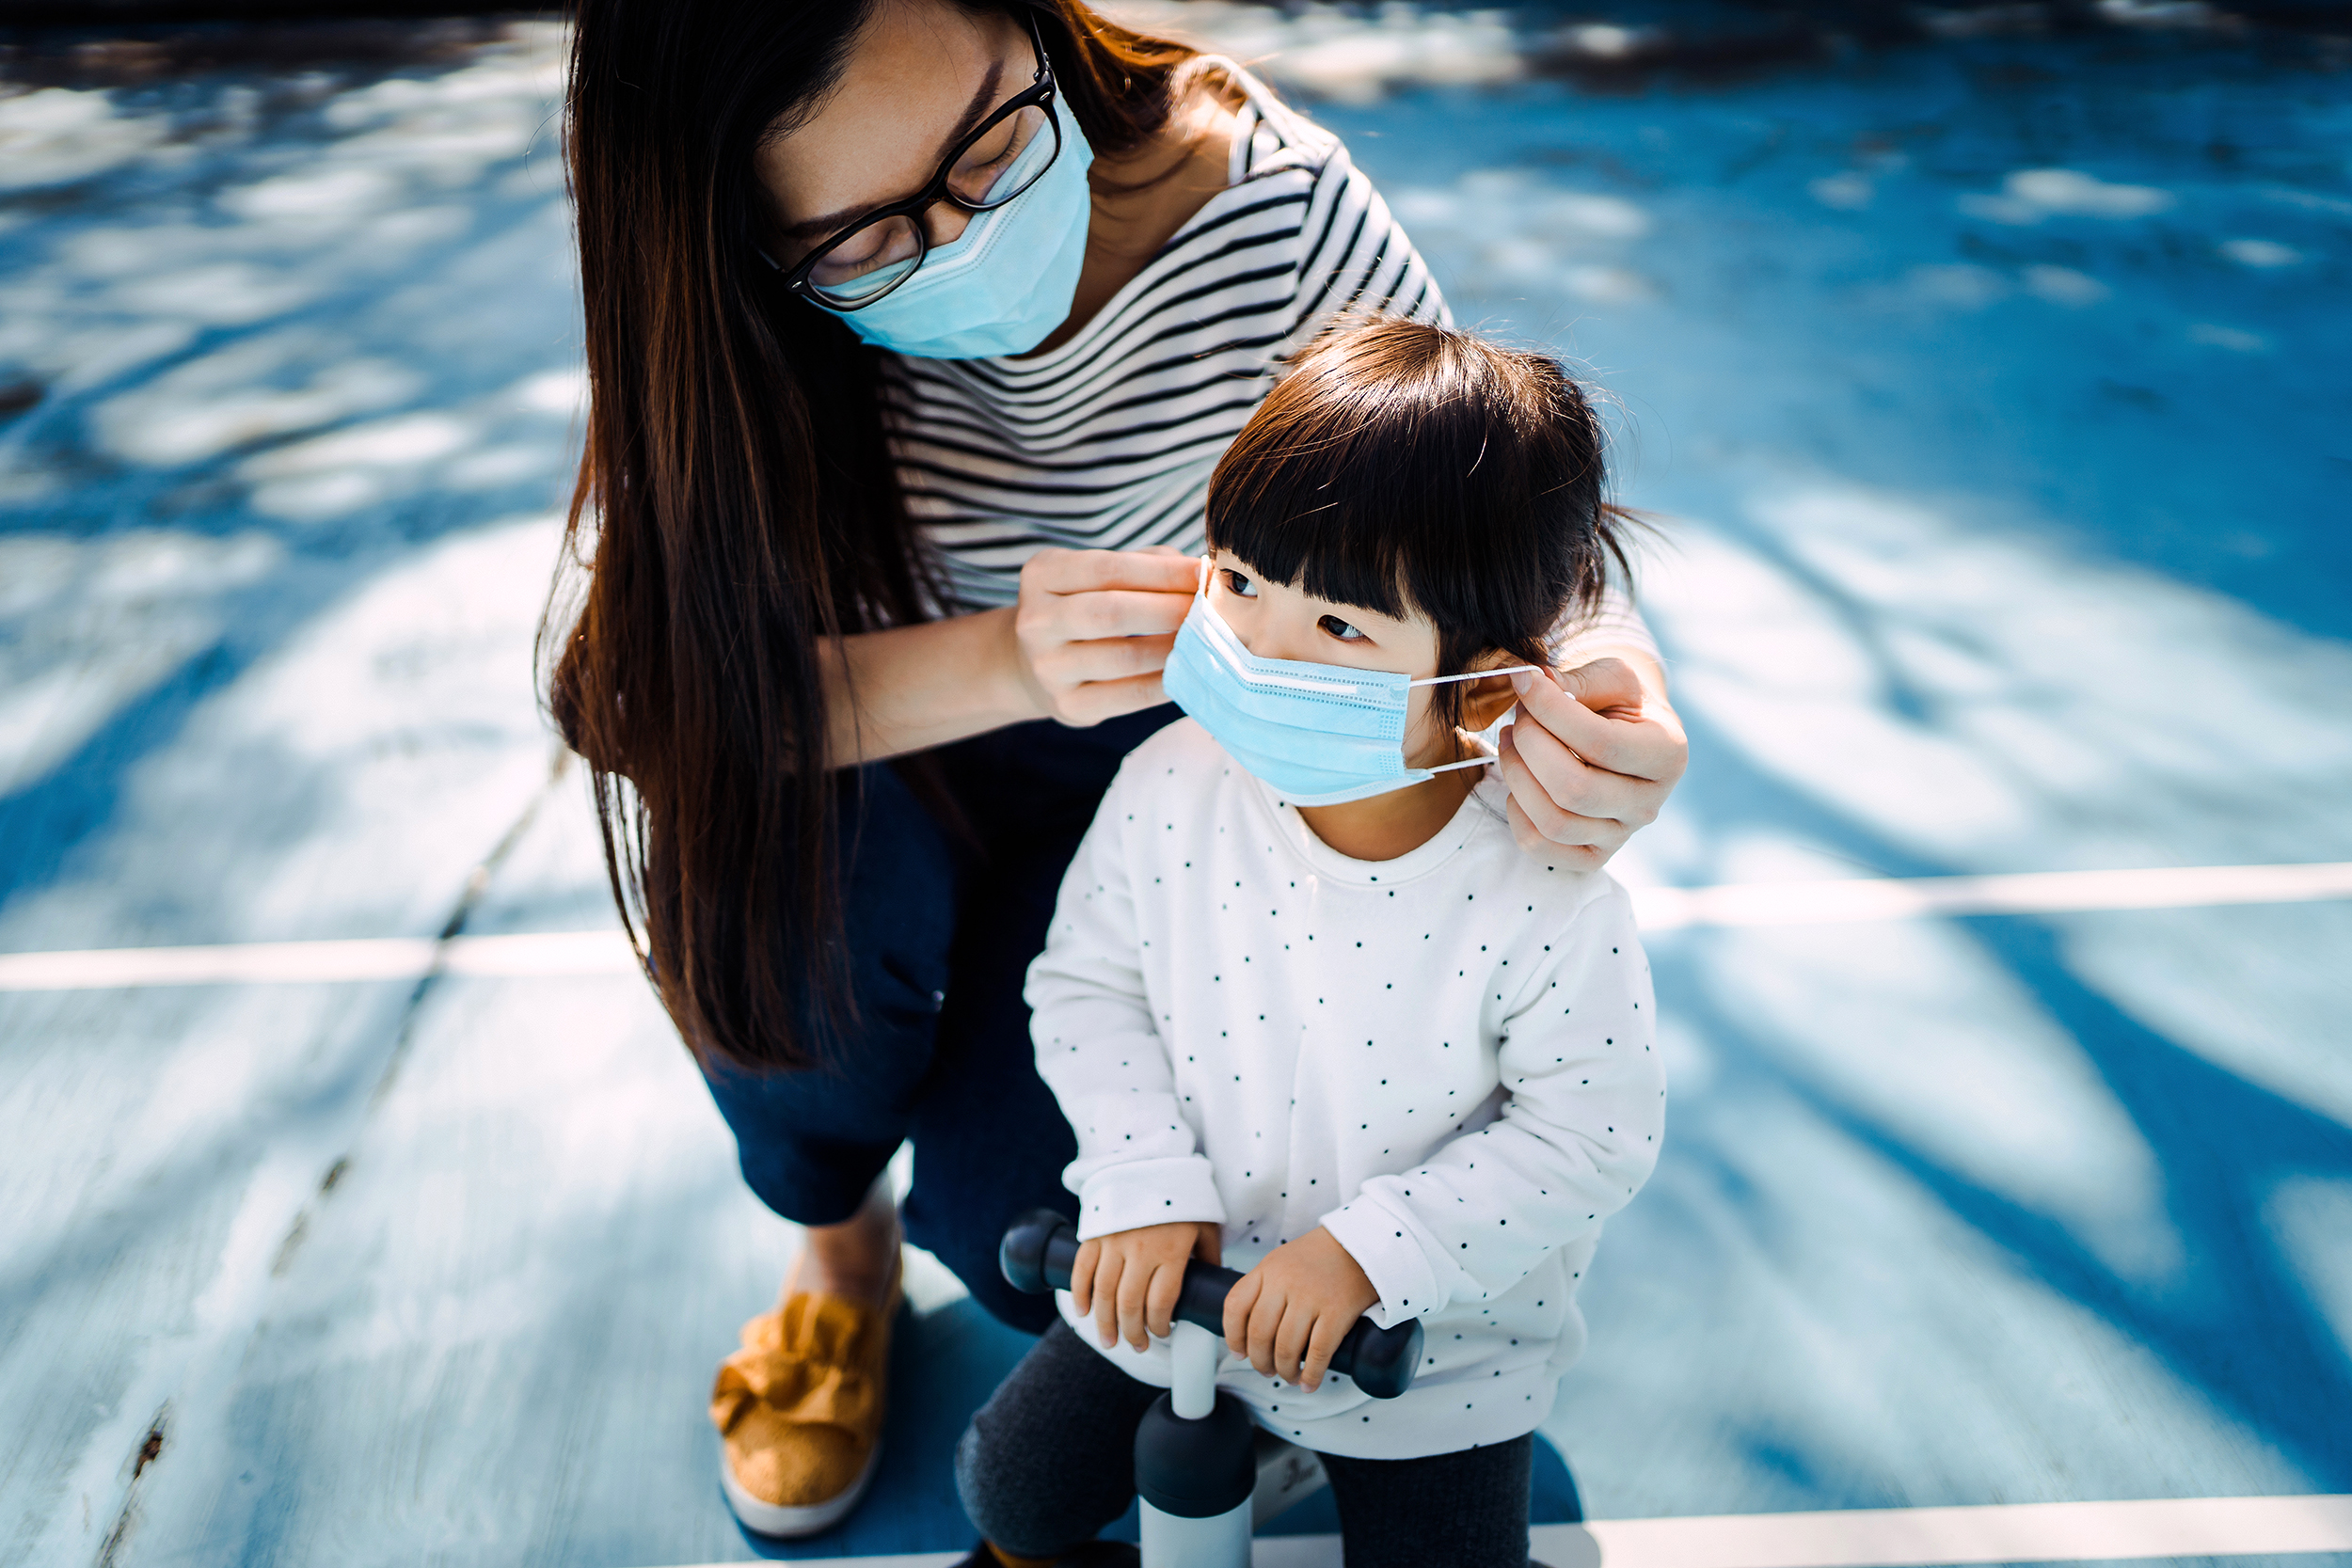with_mask: (1199, 552, 1455, 807), (844, 124, 1081, 350)
